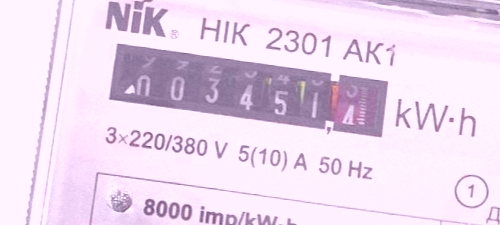0: (167, 72, 189, 102), (133, 69, 155, 98)
1: (306, 88, 325, 120)
3: (202, 73, 224, 105)
4: (236, 80, 258, 114), (337, 99, 360, 129)
5: (271, 85, 291, 118)
screen: (101, 37, 397, 145)
